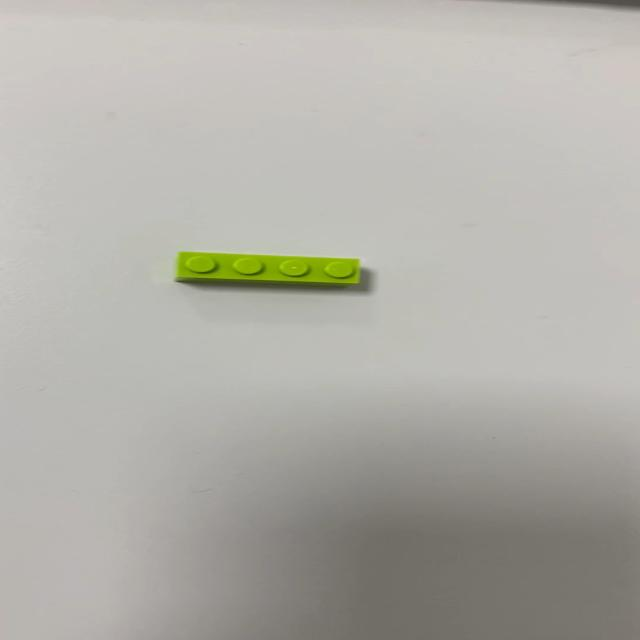C4x1x1: (173, 250, 362, 287)
